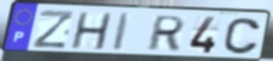4: (187, 15, 218, 55)
C: (221, 17, 263, 56)
H: (69, 12, 114, 52)
I: (111, 11, 133, 53)
R: (144, 14, 187, 52)
Z: (31, 8, 76, 50)
